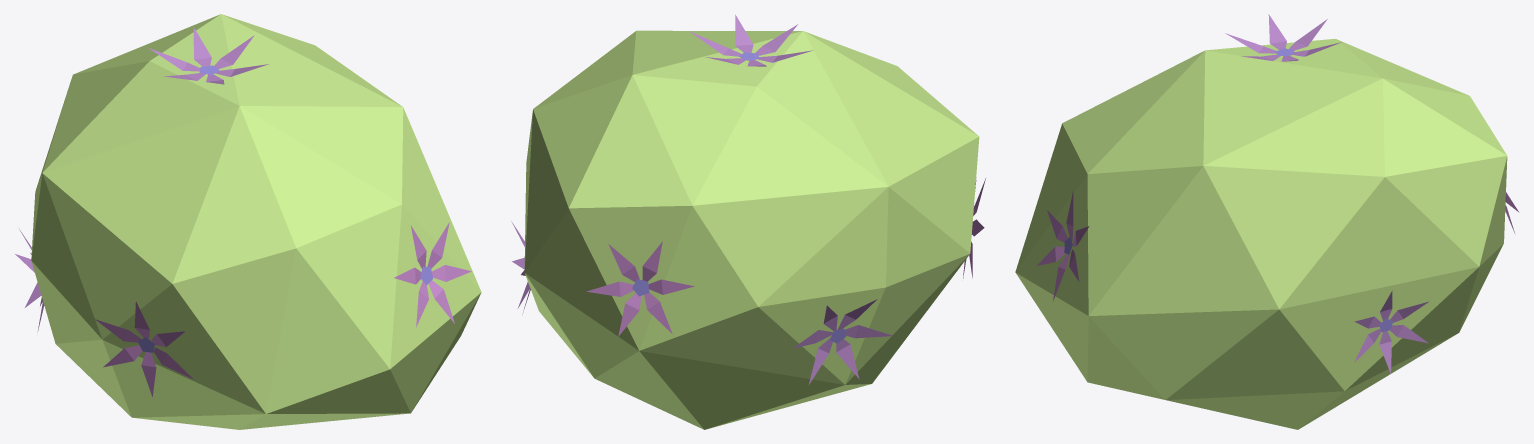
Rendered from FlowerBush_g_m_04.fbx.
3 views of the same model, side by side, from view 1: azimuth 30°, elevation 25°; view 2: azimuth 150°, elevation 25°; view 3: azimuth 270°, elevation 25° (orthographic). The views are drawn at different scales.
Visible parts, largest first — view 1: FlowerBush_g_m_04_LOD0; view 2: FlowerBush_g_m_04_LOD0; view 3: FlowerBush_g_m_04_LOD0.
Part boxes in pixels (bbox=[...]): FlowerBush_g_m_04_LOD0: bbox=[15, 14, 481, 429]; FlowerBush_g_m_04_LOD0: bbox=[511, 14, 985, 429]; FlowerBush_g_m_04_LOD0: bbox=[1015, 14, 1519, 429].
Size of what is drawn, in the model's own units: 129 by 117 by 150.
